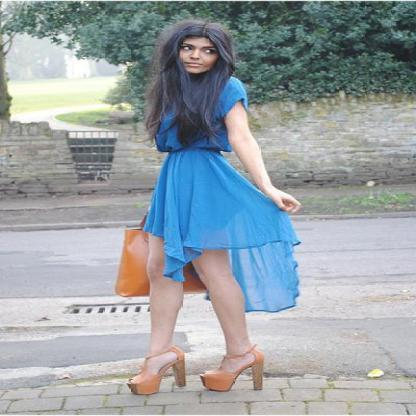bag: (115, 218, 206, 296)
dress: (142, 76, 300, 312)
shoe: (127, 343, 273, 398)
